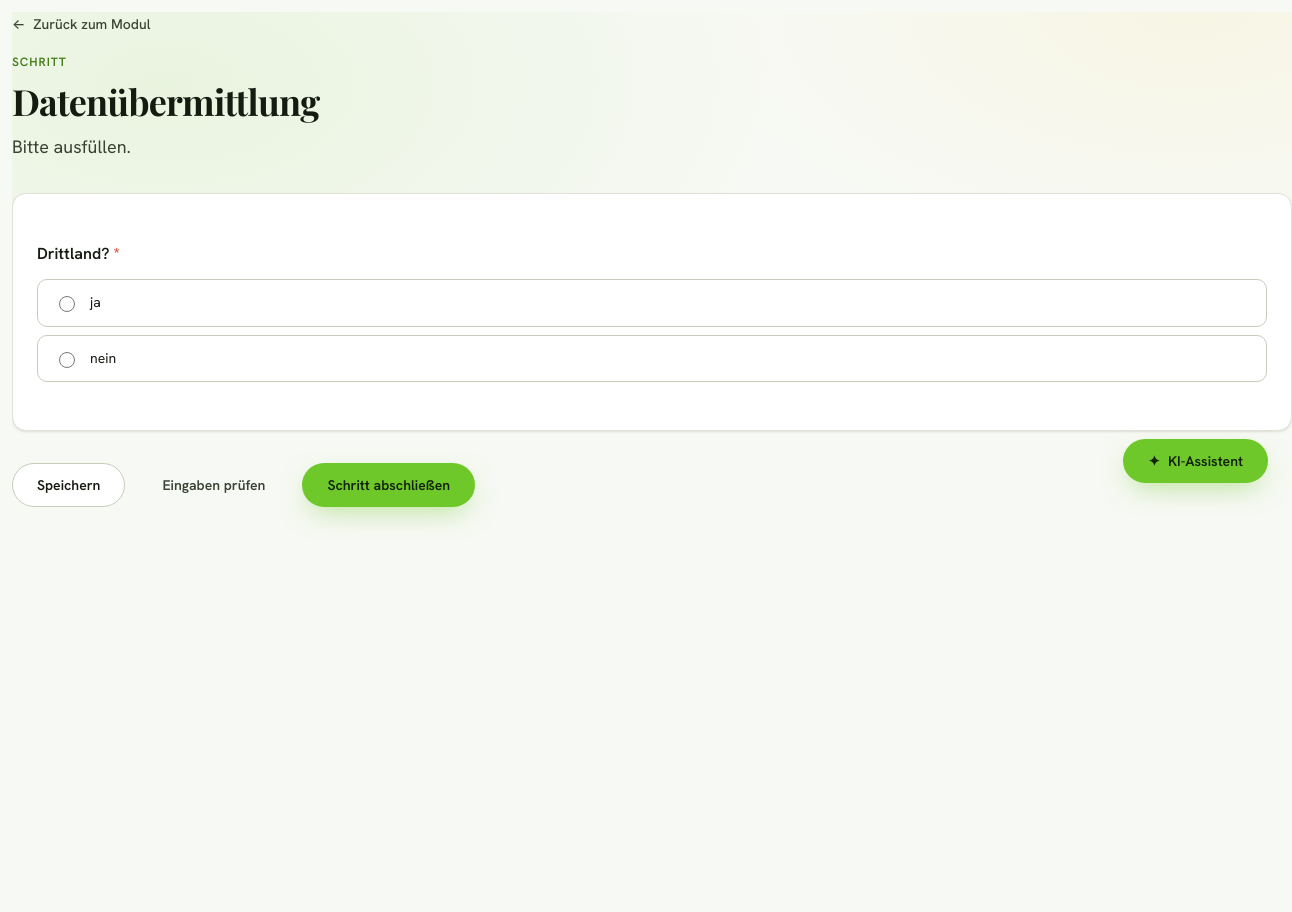
Test: StepPage › re-fetches the step after saving so conditional fields appear
Expected: the text "Drittland?" is shown, [37,243,109,264]
Click the button "Speichern": coordinates (69, 486) [12,464,125,508]
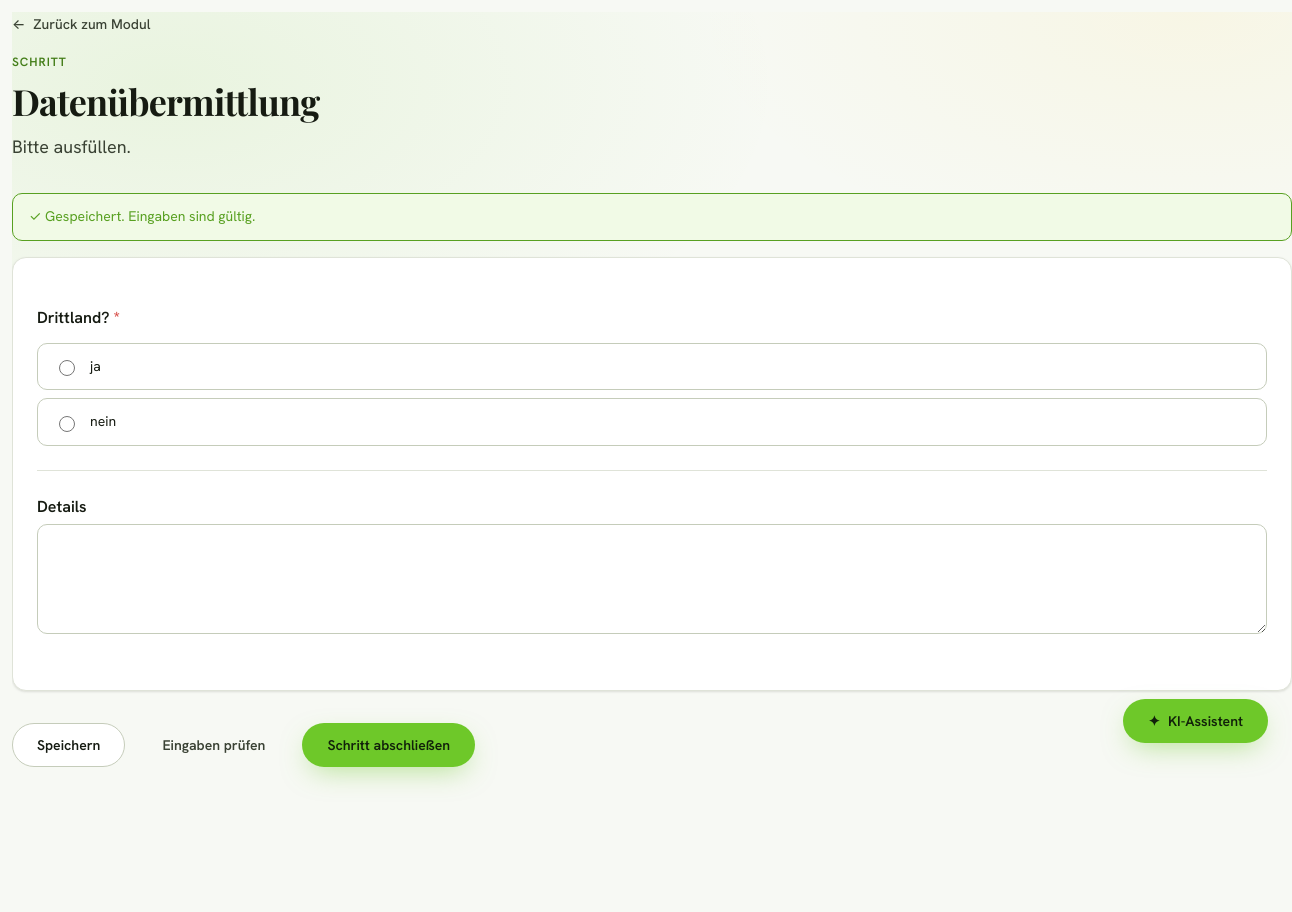
Expected: the text "Details" is shown, [37,495,87,520]
